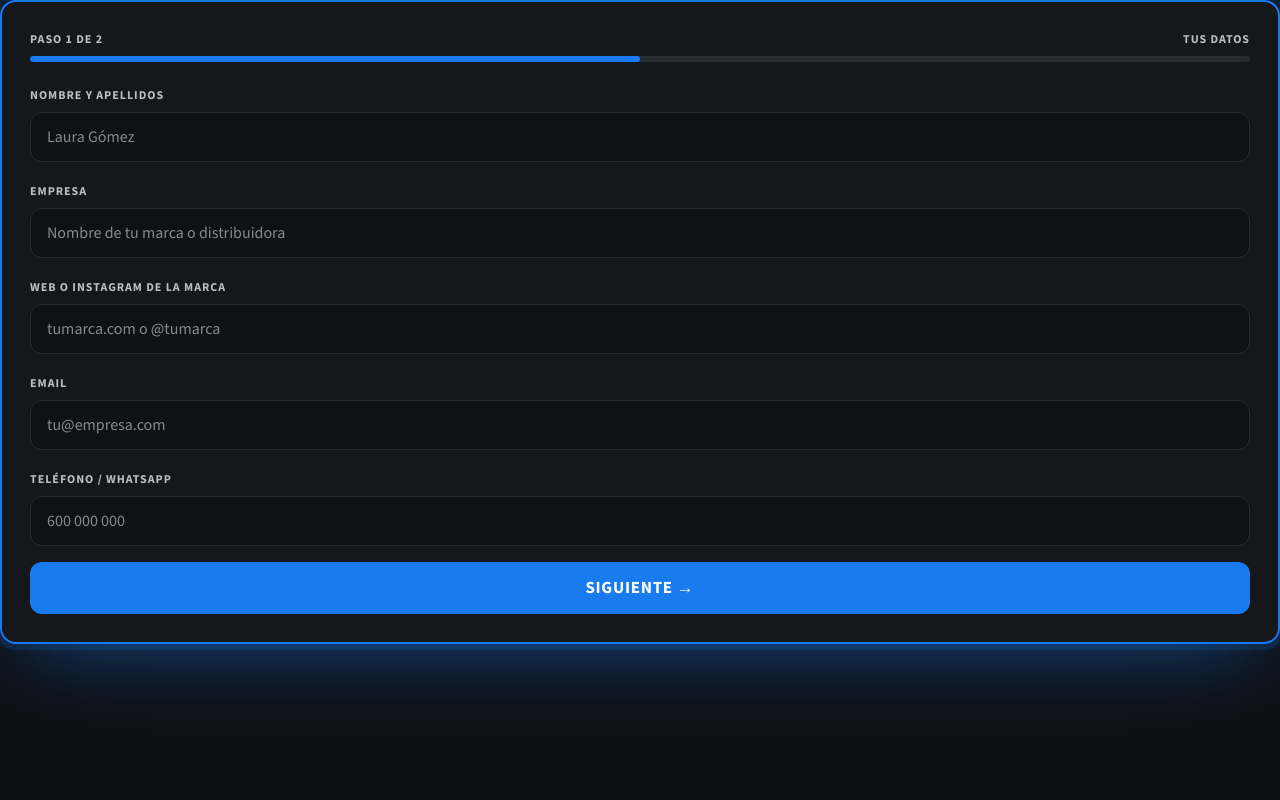
it: FormularioPack › no pasa al paso 2 con el paso 1 incompleto
Click the button "Siguiente →": point(640, 588) [30,562,1250,614]
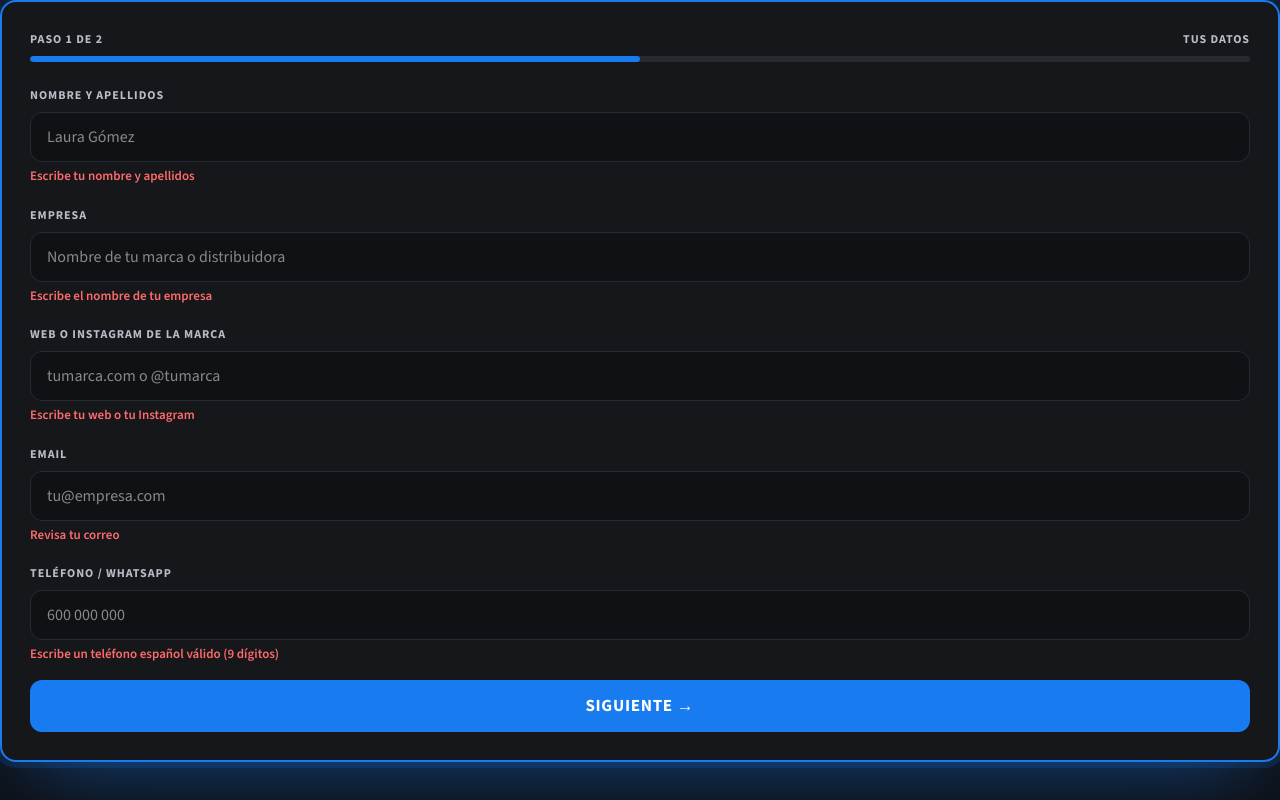
Result: the text "Escribe tu nombre y apellidos" is shown at [30,167,195,184]
